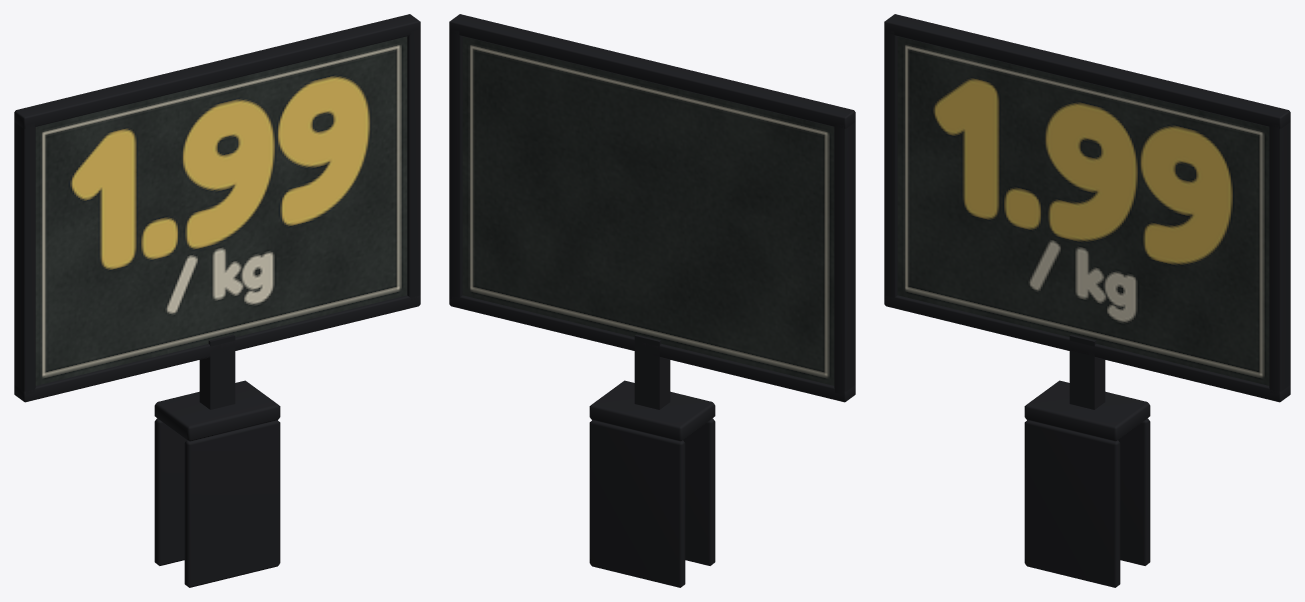
The model's file is sk_sign_crate_price_clip.fbx.
3 renders of one model, left to right at view 1: azimuth 30°, elevation 25°; view 2: azimuth 150°, elevation 25°; view 3: azimuth 330°, elevation 25°, orthographic.
Parts seen in each view (by area): view 1: sk_sign_crate_price_clip; view 2: sk_sign_crate_price_clip; view 3: sk_sign_crate_price_clip.
Boxes of the visible parts, left/top/right/bottom form: sk_sign_crate_price_clip: left=14, top=14, right=420, bottom=587; sk_sign_crate_price_clip: left=449, top=14, right=855, bottom=587; sk_sign_crate_price_clip: left=884, top=14, right=1290, bottom=587.
Size of the model in its own units: 0.128 by 0.154 by 0.0196.
2 materials, 1 textured.
